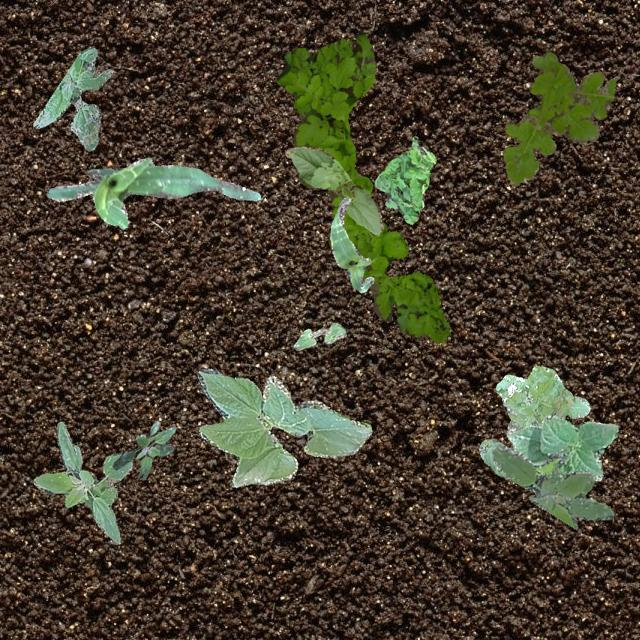crop: (197, 368, 370, 487), (46, 156, 260, 228), (284, 144, 382, 233), (507, 414, 617, 479), (328, 196, 374, 292), (292, 322, 344, 349)
weed: (276, 30, 450, 342), (502, 51, 614, 186), (478, 364, 590, 474), (32, 421, 132, 544), (490, 444, 612, 528), (32, 46, 112, 150), (374, 134, 436, 223), (112, 419, 174, 478)
